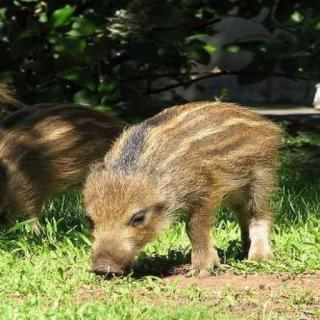Pig: (96, 85, 296, 306), (0, 62, 111, 244)
